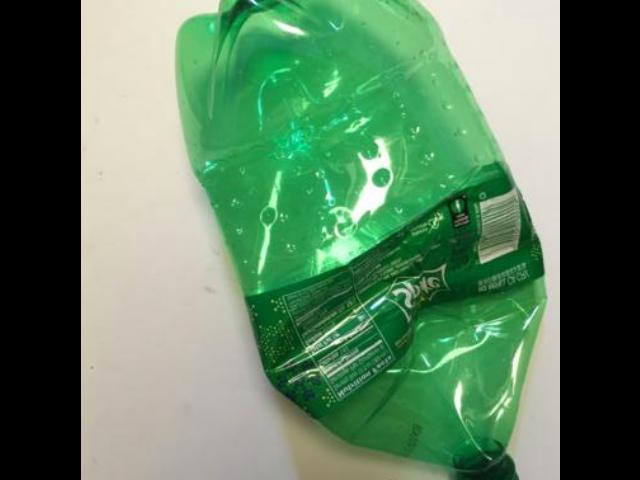plastic: (174, 0, 542, 480)
